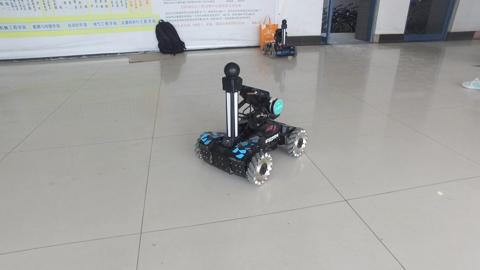bag: (153, 18, 188, 57), (257, 13, 280, 49)
chariot: (193, 60, 308, 188), (259, 17, 298, 59)
